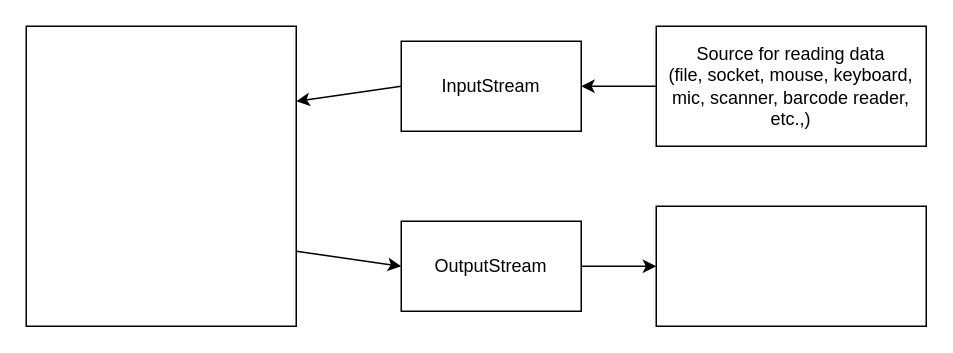
Some shapes in this 953 by 353 pixel diagram are drawn without their labels. The shapes that lost their labels are listed below. From the top down, each one's centre as x and y in pixels, then its label:
the point at 160,175: Java App
the point at 790,265: Target of writing data (file, socket, monitor, printer, speaker, etc.,)
